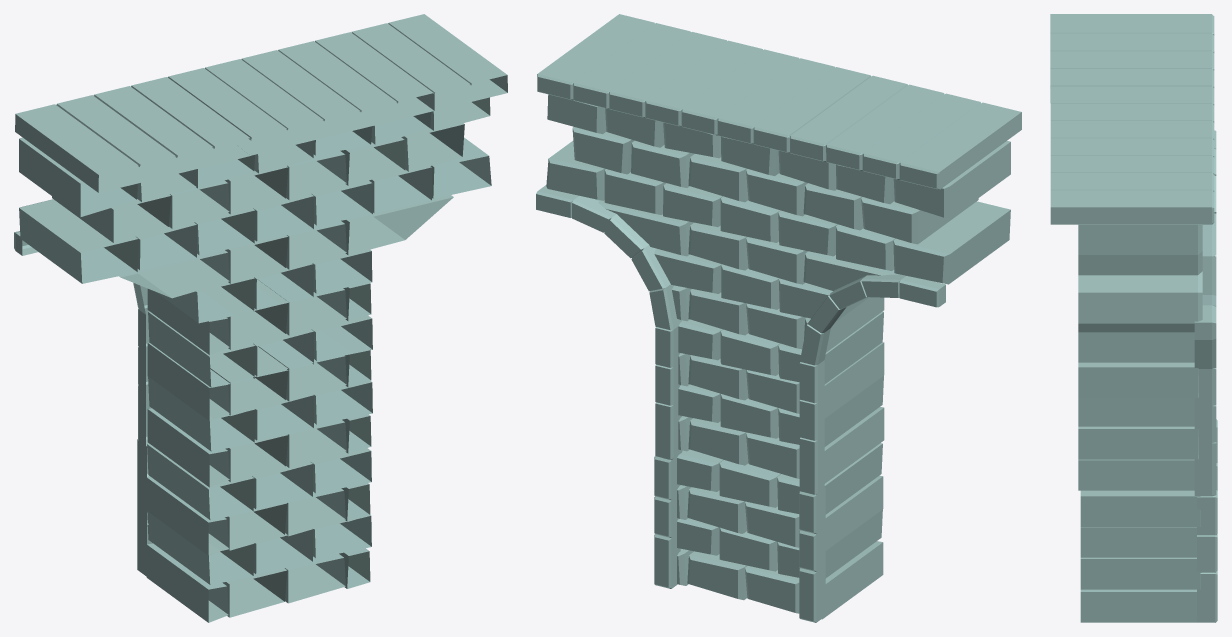
Rendered from Plataforma.fbx.
3 views of the same model, side by side, from view 1: azimuth 30°, elevation 25°; view 2: azimuth 150°, elevation 25°; view 3: azimuth 270°, elevation 25° (orthographic). The views are drawn at different scales.
Visible parts, largest first — view 1: polySurface1753, polySurface1789; view 2: polySurface1753, polySurface1789; view 3: polySurface1753, polySurface1789.
Boxes of the visible parts, x1=… form: polySurface1753: x1=14, y1=14, x2=507, y2=487; polySurface1789: x1=137, y1=439, x2=371, y2=622; polySurface1753: x1=536, y1=14, x2=1021, y2=494; polySurface1789: x1=654, y1=443, x2=883, y2=622; polySurface1753: x1=1050, y1=14, x2=1216, y2=496; polySurface1789: x1=1080, y1=419, x2=1217, y2=622.
Size of the model in its own units: 3.67 by 4.16 by 1.33.
